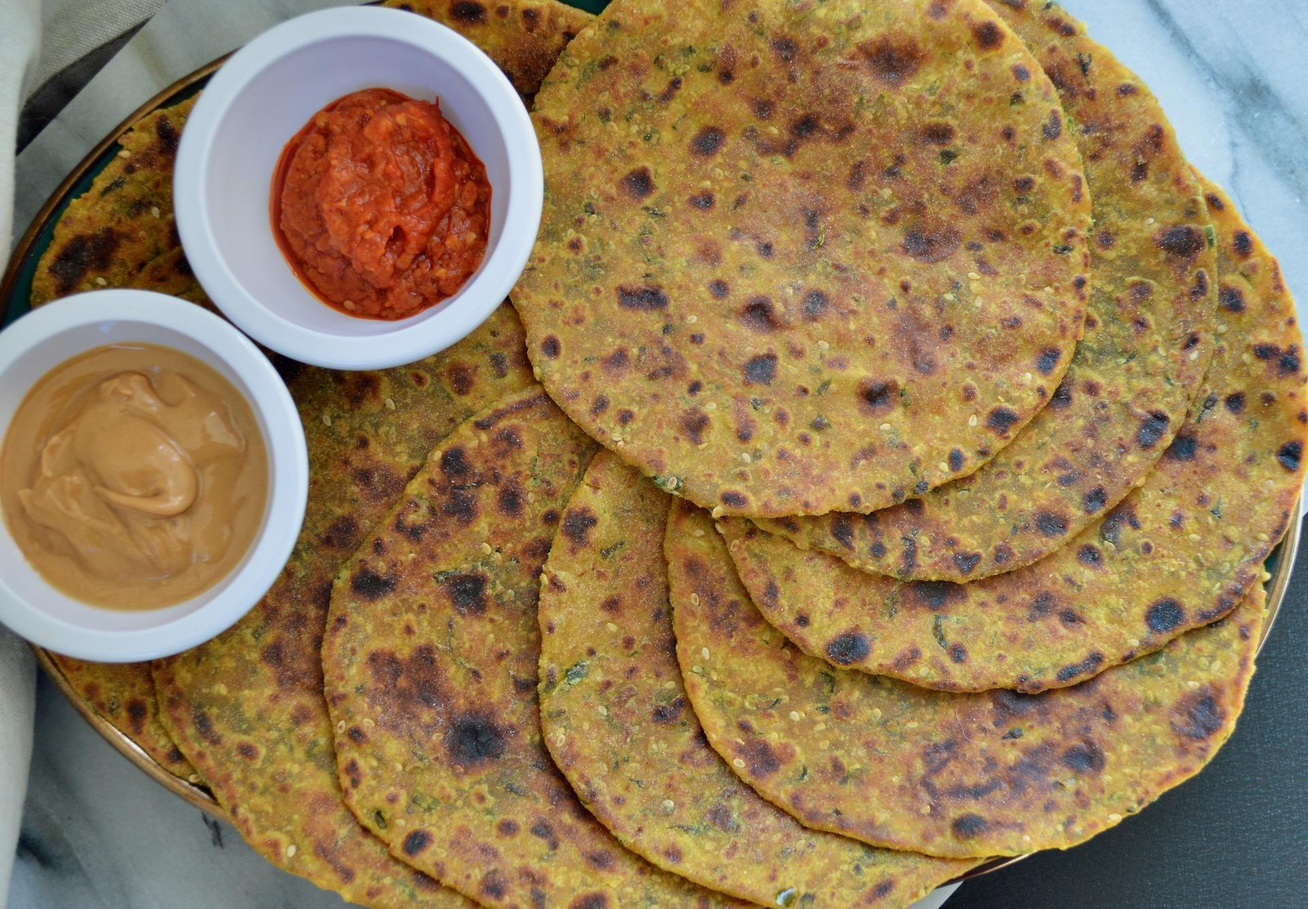thepla: (596, 3, 1279, 810), (312, 373, 886, 909)
